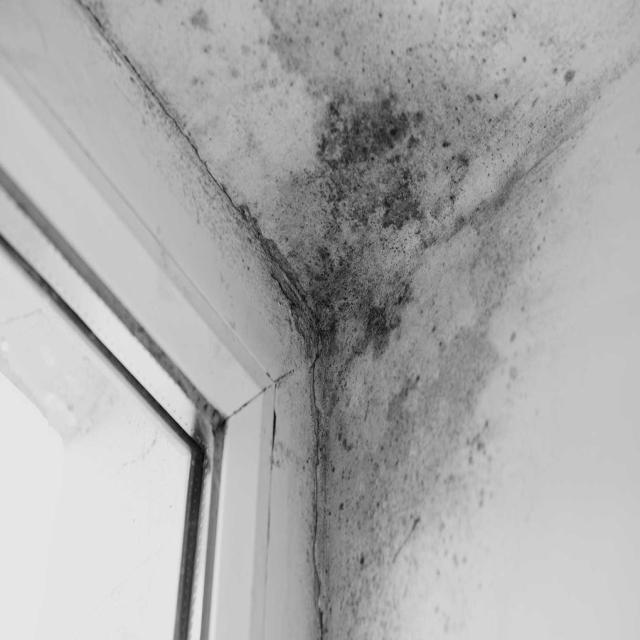stain marks: (83, 3, 622, 640)
